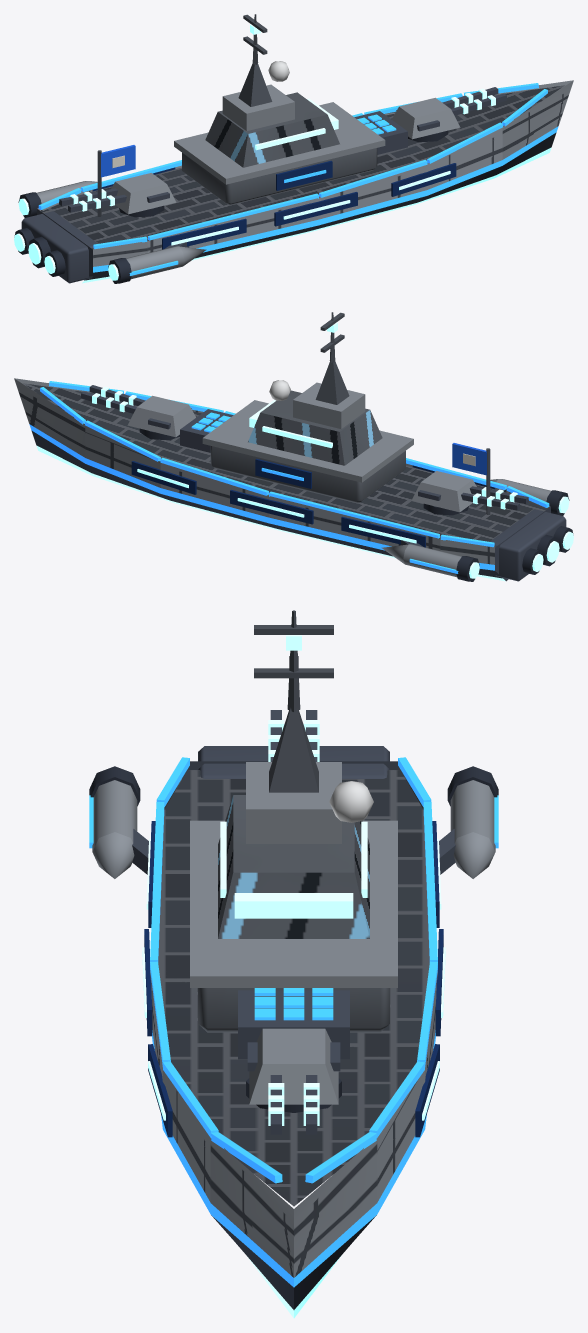
Rendered from cruiser_scifi_blue.glb.
3 renders of one model, top to bottom at view 1: azimuth 30°, elevation 25°; view 2: azimuth 150°, elevation 25°; view 3: azimuth 270°, elevation 25°, orthographic. The views are drawn at different scales.
Visible parts, largest first — view 1: cruiser_scifi_blue; view 2: cruiser_scifi_blue; view 3: cruiser_scifi_blue.
Part boxes in pixels (bbox=[...]): cruiser_scifi_blue: bbox=[14, 14, 573, 283]; cruiser_scifi_blue: bbox=[14, 312, 573, 581]; cruiser_scifi_blue: bbox=[89, 610, 498, 1318].
Size of the model in its own units: 0.78 by 0.29 by 0.256.
3 materials, 1 textured.
